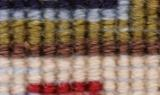Knot: (70, 83, 83, 90), (74, 90, 81, 93), (83, 90, 90, 93)
